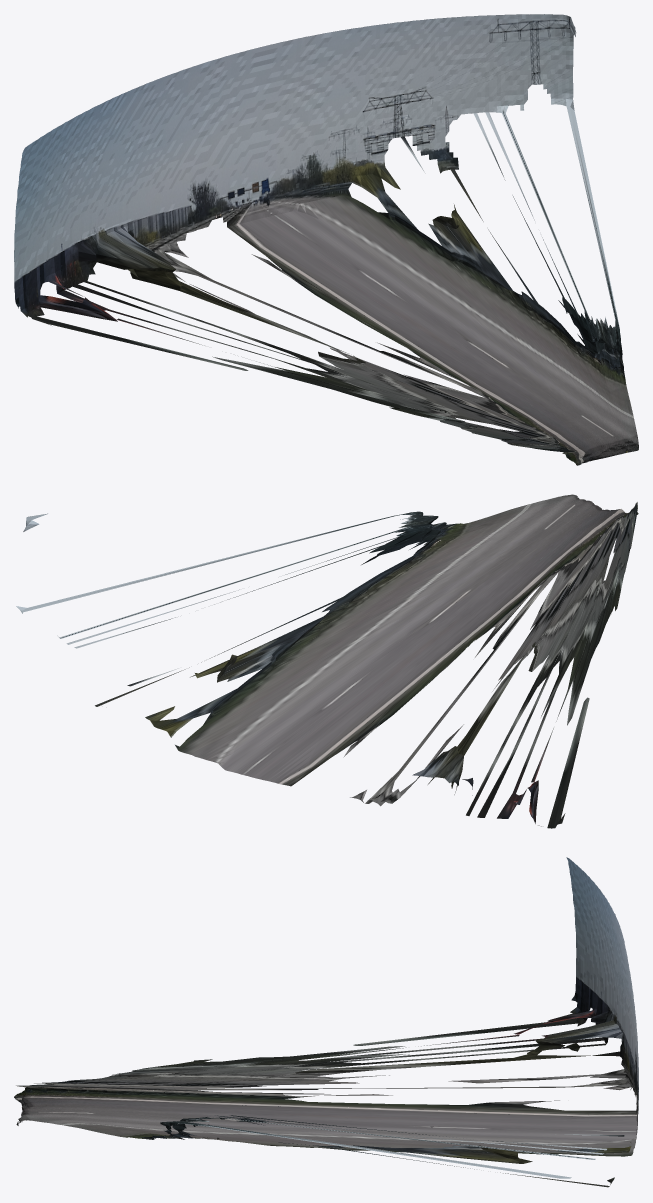
3 views of the same model, one above another, from view 1: azimuth 30°, elevation 25°; view 2: azimuth 150°, elevation 25°; view 3: azimuth 270°, elevation 25° (orthographic). The views are drawn at different scales.
Parts seen in each view (by area): view 1: defaultobject; view 2: defaultobject; view 3: defaultobject.
Boxes of the visible parts, box(x1,y1,x2,y2) form: defaultobject: box(14, 14, 638, 465); defaultobject: box(16, 494, 638, 828); defaultobject: box(14, 857, 638, 1187).
Bounding box in the file's own units: 41.09 × 13.25 × 44.65.
Materials: 1 (1 with a texture image).
